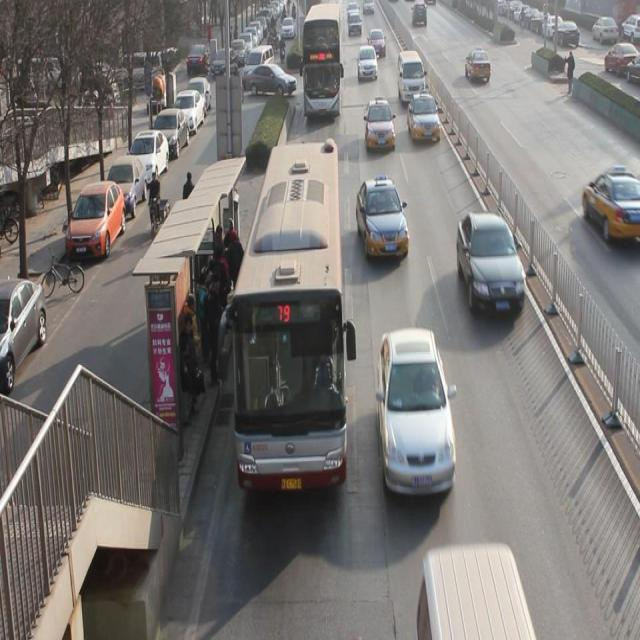car: (379, 332, 459, 499), (456, 214, 527, 322), (356, 179, 413, 263), (583, 165, 640, 247), (364, 97, 396, 154), (406, 99, 442, 144), (464, 47, 492, 86), (357, 46, 378, 82), (367, 30, 388, 60), (348, 14, 362, 37)
truck: (422, 552, 534, 630), (397, 54, 426, 106)
van: (228, 143, 347, 491), (303, 1, 341, 116)
